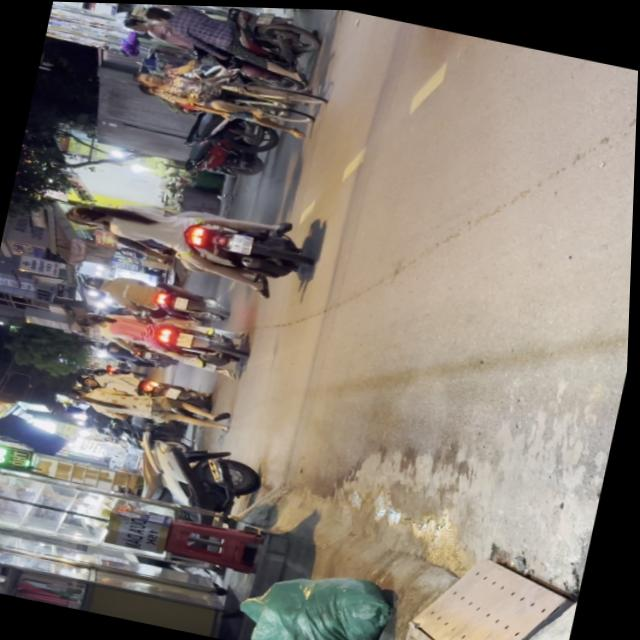licenseplate: (54, 175, 320, 298), (106, 3, 331, 92)
motorcyclist: (66, 197, 112, 227), (116, 9, 149, 32), (137, 3, 169, 22)
nohelmet: (228, 230, 253, 252)
